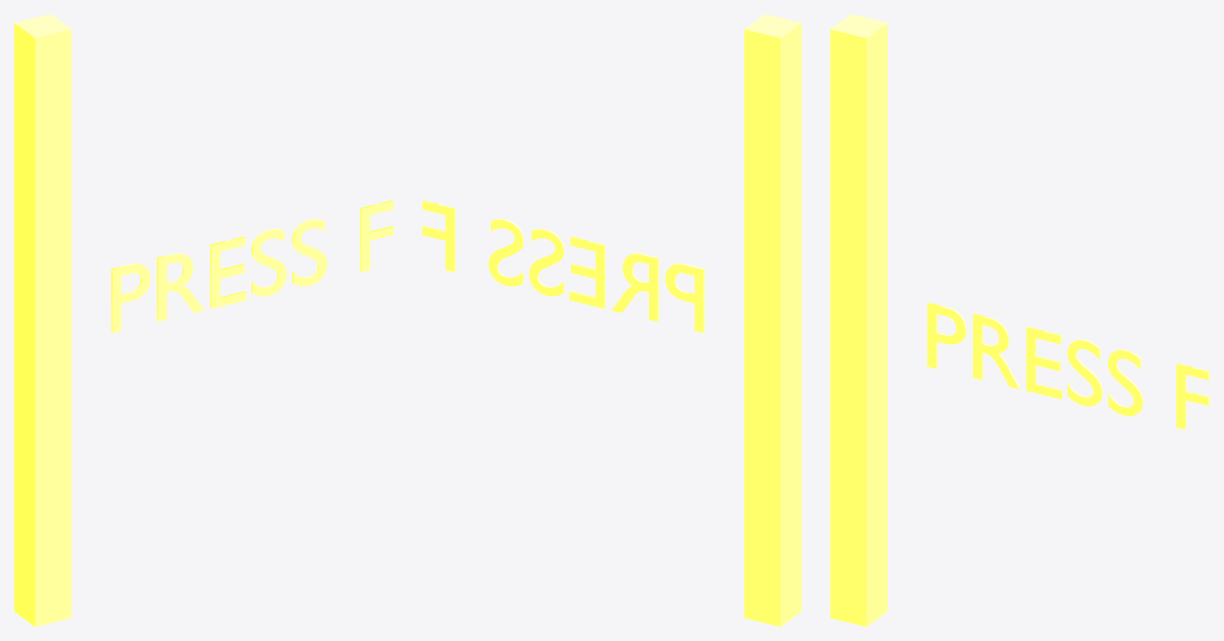
Rendered from FloorSelectBMarker.gltf.
3 renders of one model, left to right at view 1: azimuth 30°, elevation 25°; view 2: azimuth 150°, elevation 25°; view 3: azimuth 330°, elevation 25°, orthographic.
Parts seen in each view (by area): view 1: FloorSelectBMarker; view 2: FloorSelectBMarker; view 3: FloorSelectBMarker.
Part boxes in pixels (x1,y1,x2,y2): FloorSelectBMarker: [14, 14, 393, 626]; FloorSelectBMarker: [422, 14, 801, 626]; FloorSelectBMarker: [830, 14, 1209, 626].
Size of the model in its own units: 0.4808 by 0.7345 by 0.0475.
